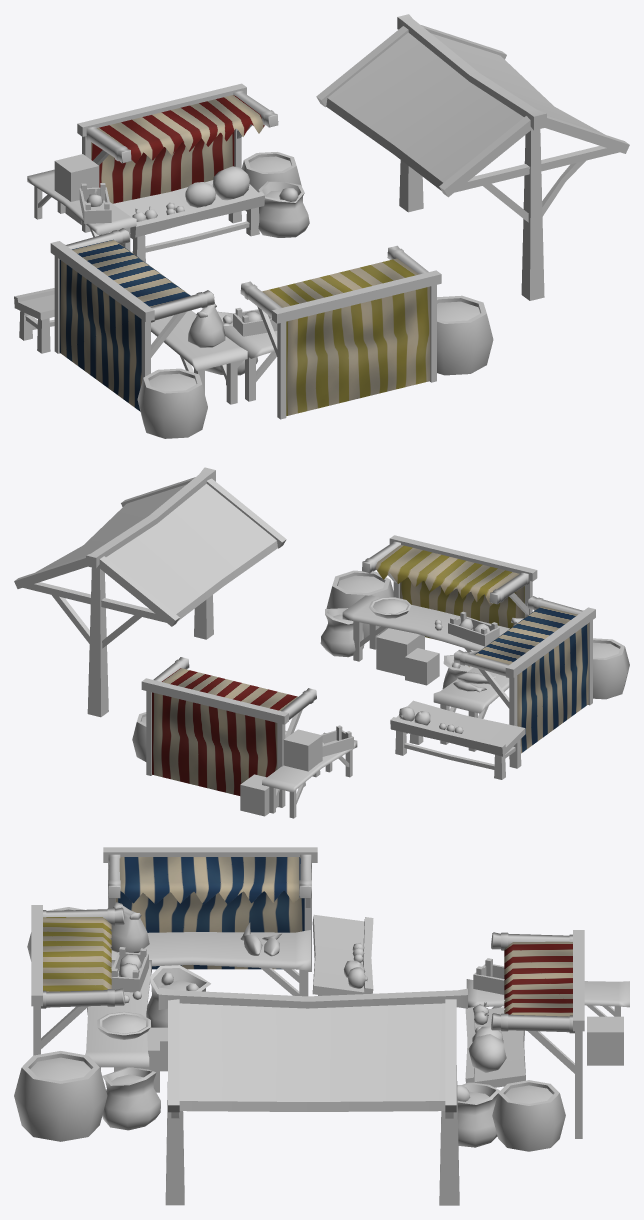
File: Market.fbx
3 views of the same model, one above another, from view 1: azimuth 30°, elevation 25°; view 2: azimuth 150°, elevation 25°; view 3: azimuth 270°, elevation 25° (orthographic). The views are drawn at different scales.
Parts seen in each view (by area): view 1: MarketEntrance, Stall_Yellow, Stall_Blue, Stall_Red, DisplayBench1, Barrel_Fish, Barrel_Wheat1, Bench1, Bag_Mellons, Bench3, DisplayBench2, Bench2 (+7 smaller); view 2: MarketEntrance, Stall_Red, Stall_Blue, Stall_Yellow, DisplayBench2, Bench2, Bench3, Barrel_Fish, Barrel_Wheat1, Bench1, Crate4, Crate1 (+8 smaller); view 3: MarketEntrance, Stall_Blue, Stall_Red, Stall_Yellow, Barrel_Wheat1, Bench1, Barrel_Apple, DisplayBench2, Bench2, Bag_Wheat, DisplayBench1, Bag_Mellons (+9 smaller).
Boxes of the visible parts, x1,y1,x2,y2 form: MarketEntrance: [316, 14, 629, 300]; Stall_Yellow: [240, 245, 441, 419]; Stall_Blue: [50, 228, 214, 411]; Stall_Red: [77, 83, 278, 232]; DisplayBench1: [113, 180, 264, 261]; Barrel_Fish: [137, 368, 207, 438]; Barrel_Wheat1: [437, 295, 493, 375]; Bench1: [151, 310, 247, 404]; Bag_Mellons: [258, 181, 309, 237]; Bench3: [27, 169, 136, 250]; DisplayBench2: [14, 288, 54, 353]; Bench2: [223, 326, 277, 401]; MarketEntrance: [14, 467, 286, 717]; Stall_Red: [141, 657, 316, 807]; Stall_Blue: [453, 596, 595, 759]; Stall_Yellow: [362, 535, 537, 639]; DisplayBench2: [390, 700, 525, 779]; Bench2: [342, 595, 509, 661]; Bench3: [262, 732, 357, 818]; Barrel_Fish: [593, 638, 629, 699]; Barrel_Wheat1: [326, 570, 393, 637]; Bench1: [433, 667, 509, 751]; Crate4: [376, 628, 424, 676]; Crate1: [283, 729, 322, 771]; MarketEntrance: [158, 987, 467, 1205]; Stall_Blue: [103, 847, 317, 971]; Stall_Red: [491, 930, 584, 1138]; Stall_Yellow: [31, 905, 124, 1055]; Barrel_Wheat1: [14, 1051, 107, 1141]; Bench1: [111, 930, 310, 996]; Barrel_Apple: [492, 1080, 565, 1151]; DisplayBench2: [312, 914, 373, 995]; Bench2: [85, 960, 151, 1070]; Bag_Wheat: [102, 1067, 160, 1130]; DisplayBench1: [465, 1007, 525, 1087]; Bag_Mellons: [457, 1082, 499, 1147].
Size of the model in its own units: 22.14 by 7.65 by 19.65.
